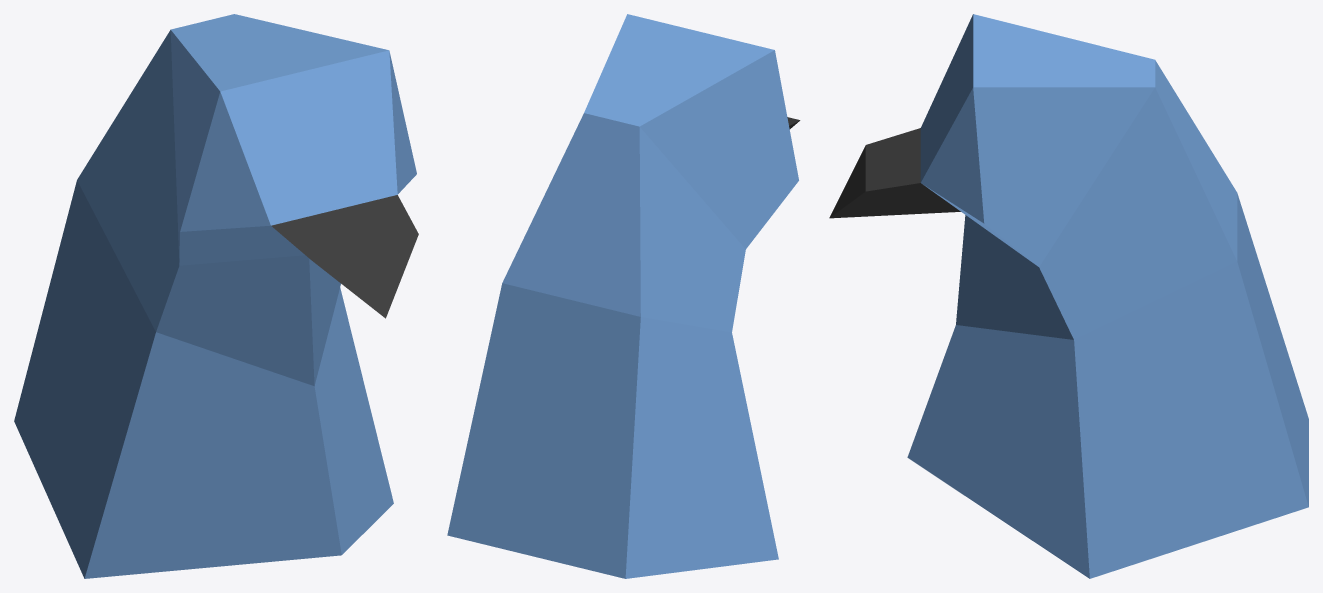
The model's file is Bird_Head.fbx.
3 renders of one model, left to right at view 1: azimuth 30°, elevation 25°; view 2: azimuth 150°, elevation 25°; view 3: azimuth 270°, elevation 25°, orthographic. The views are drawn at different scales.
Visible parts, largest first — view 1: Bird_Head; view 2: Bird_Head; view 3: Bird_Head.
Boxes of the visible parts, x1,y1,x2,y2 form: Bird_Head: (14,14,418,578); Bird_Head: (447,14,800,578); Bird_Head: (829,14,1308,578).
Size of the model in its own units: 11.18 by 17.89 by 16.86.
